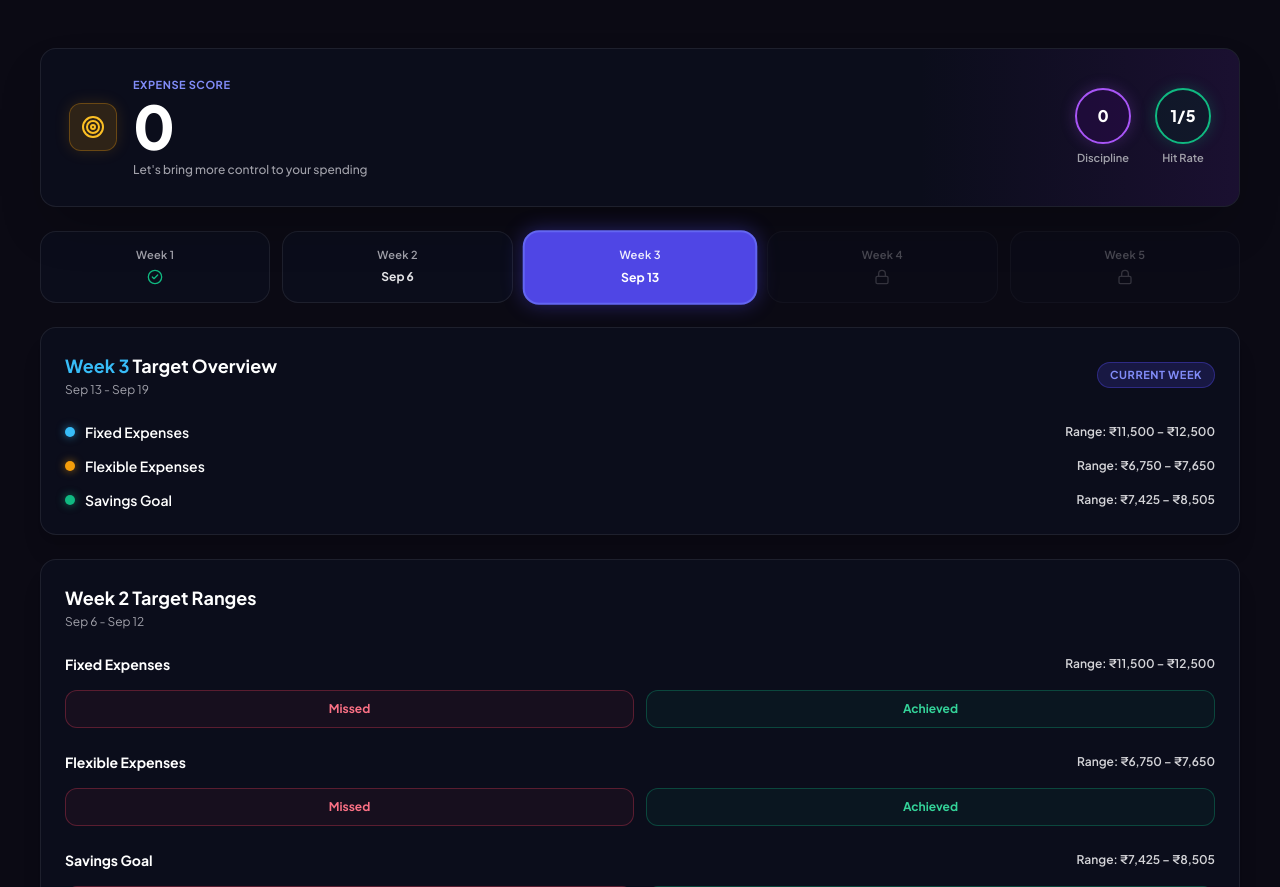
Scenario: Task 9: Weekly Expense Predictor Flutter Parity & Lock Behavior › disables decisions and submit button when submitted week (Week 1) is selected
Check: the heading "Week 2 Target Ranges" is shown, box [65,584,257,612]
Click the button with test id "week-tab-1". click: (155,267)
box: [40,230,270,303]
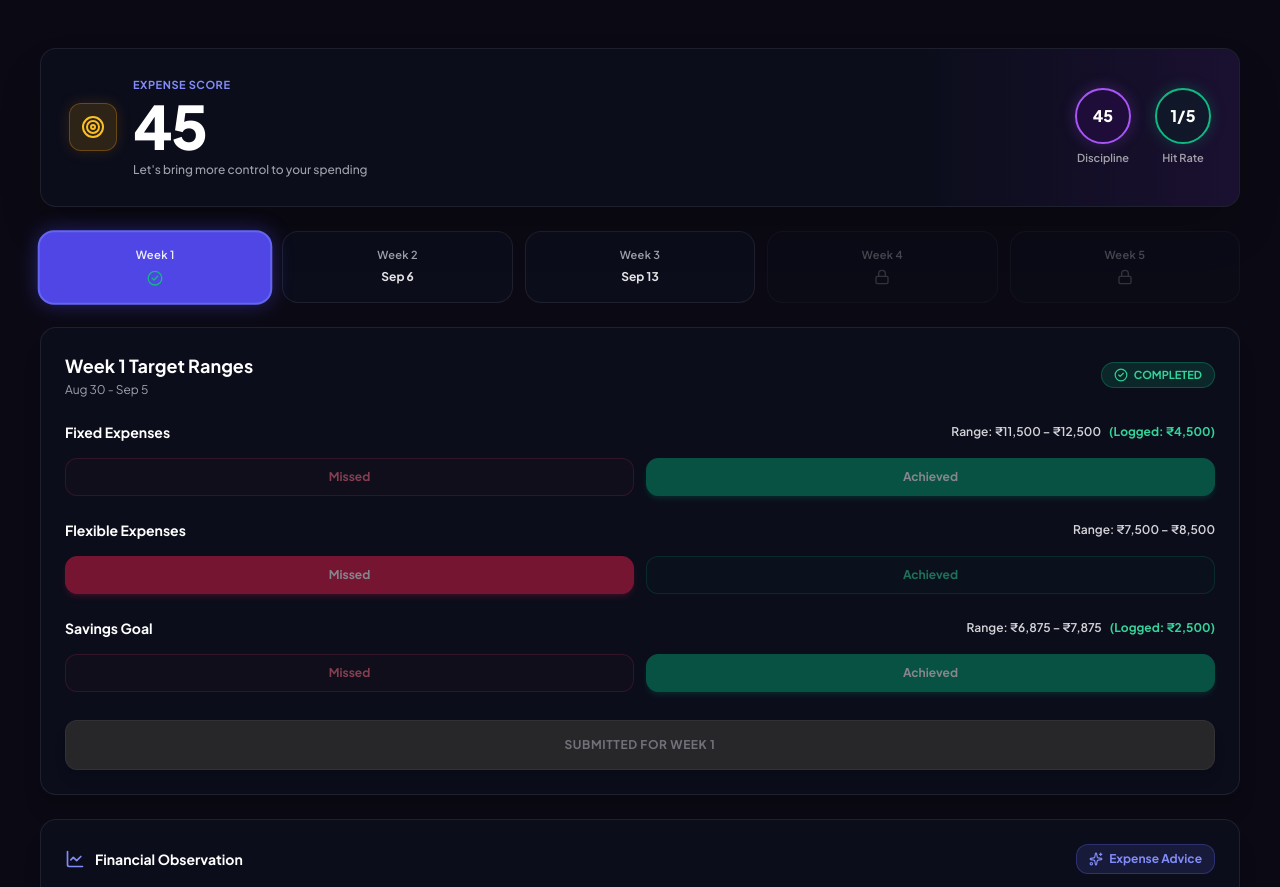
Check: the heading "Week 1 Target Ranges" is shown, box [65,352,253,380]
Check: the button with test id "fixed-achieved-btn" is disabled, box [646,458,1215,496]
Check: the button with test id "fixed-missed-btn" is disabled, box [65,458,634,496]
